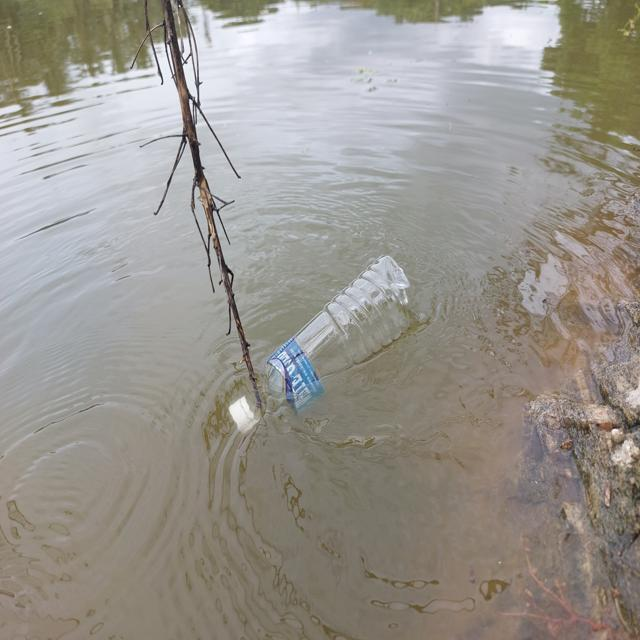waterbottle: (218, 250, 434, 454)
